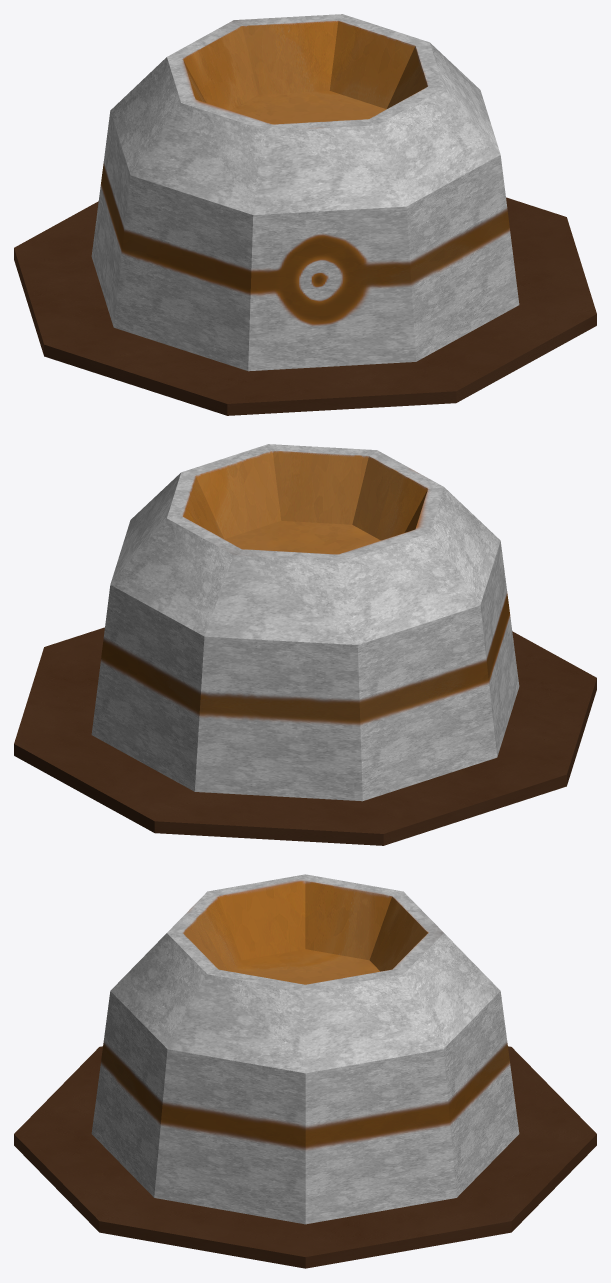
The model's file is bowl-inactive.glb.
The picture shows the model from 3 angles, top to bottom: view 1: azimuth 30°, elevation 25°; view 2: azimuth 150°, elevation 25°; view 3: azimuth 270°, elevation 25°; orthographic projection. The views are drawn at different scales.
Visible parts, largest first — view 1: bowl-uvd; view 2: bowl-uvd; view 3: bowl-uvd.
Boxes of the visible parts, bbox=[...] form: bowl-uvd: bbox=[14, 14, 596, 415]; bowl-uvd: bbox=[14, 444, 596, 845]; bowl-uvd: bbox=[14, 874, 596, 1268].
Bounding box in the file's own units: 4.6 × 1.85 × 4.6.
1 material, 1 textured.
